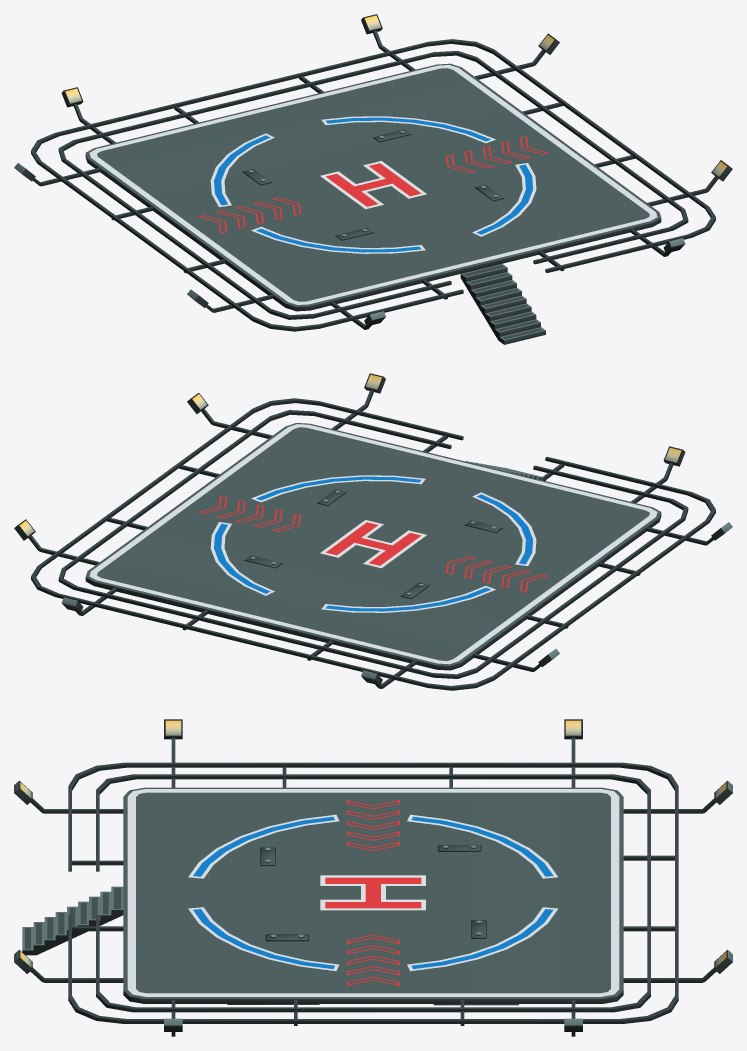
Rendered from Helipad_2A.fbx.
The picture shows the model from 3 angles, top to bottom: view 1: azimuth 30°, elevation 25°; view 2: azimuth 150°, elevation 25°; view 3: azimuth 270°, elevation 25°; orthographic projection. The views are drawn at different scales.
Visible parts, largest first — view 1: Helipad_2A; view 2: Helipad_2A; view 3: Helipad_2A.
Part boxes in pixels (x1=…): Helipad_2A: x1=14, y1=14, x2=732, y2=344; Helipad_2A: x1=14, y1=373, x2=732, y2=690; Helipad_2A: x1=14, y1=719, x2=732, y2=1036.
Size of the model in its own units: 2588 by 297 by 2588.
